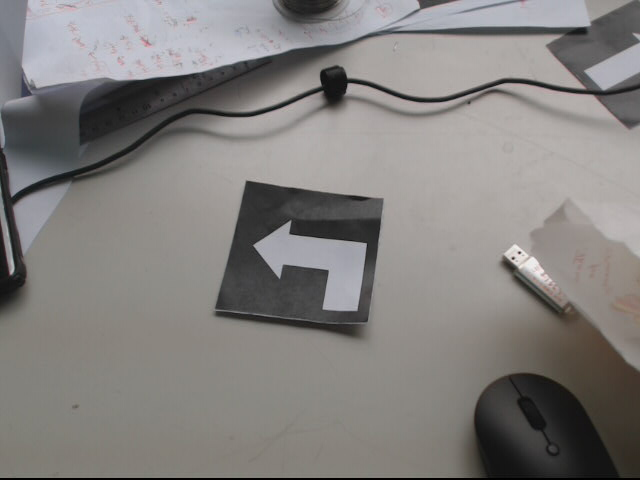left: (213, 178, 383, 329)
